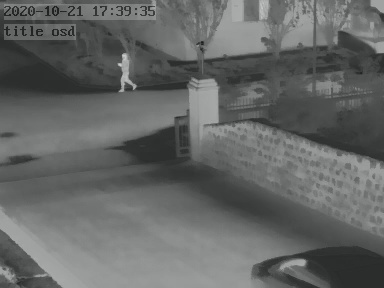person: (118, 51, 135, 93)
